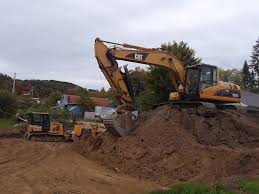excavator: (92, 35, 252, 139)
